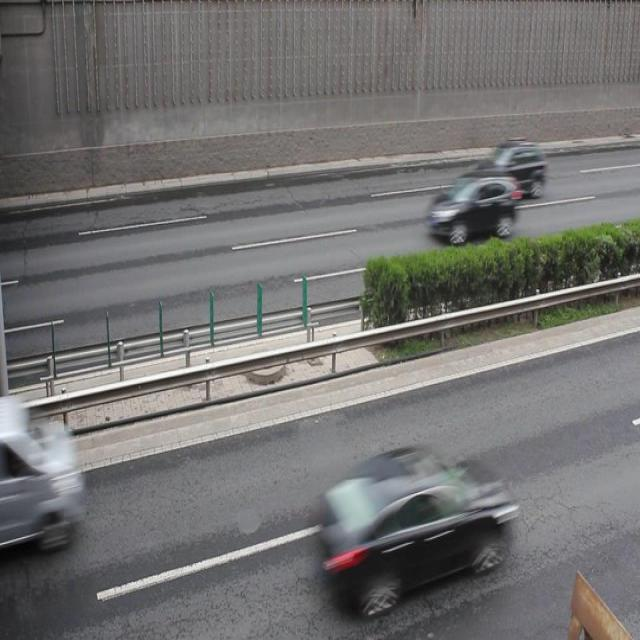car: (315, 442, 512, 616), (428, 171, 518, 246), (464, 141, 545, 202)
truck: (1, 410, 81, 556)
